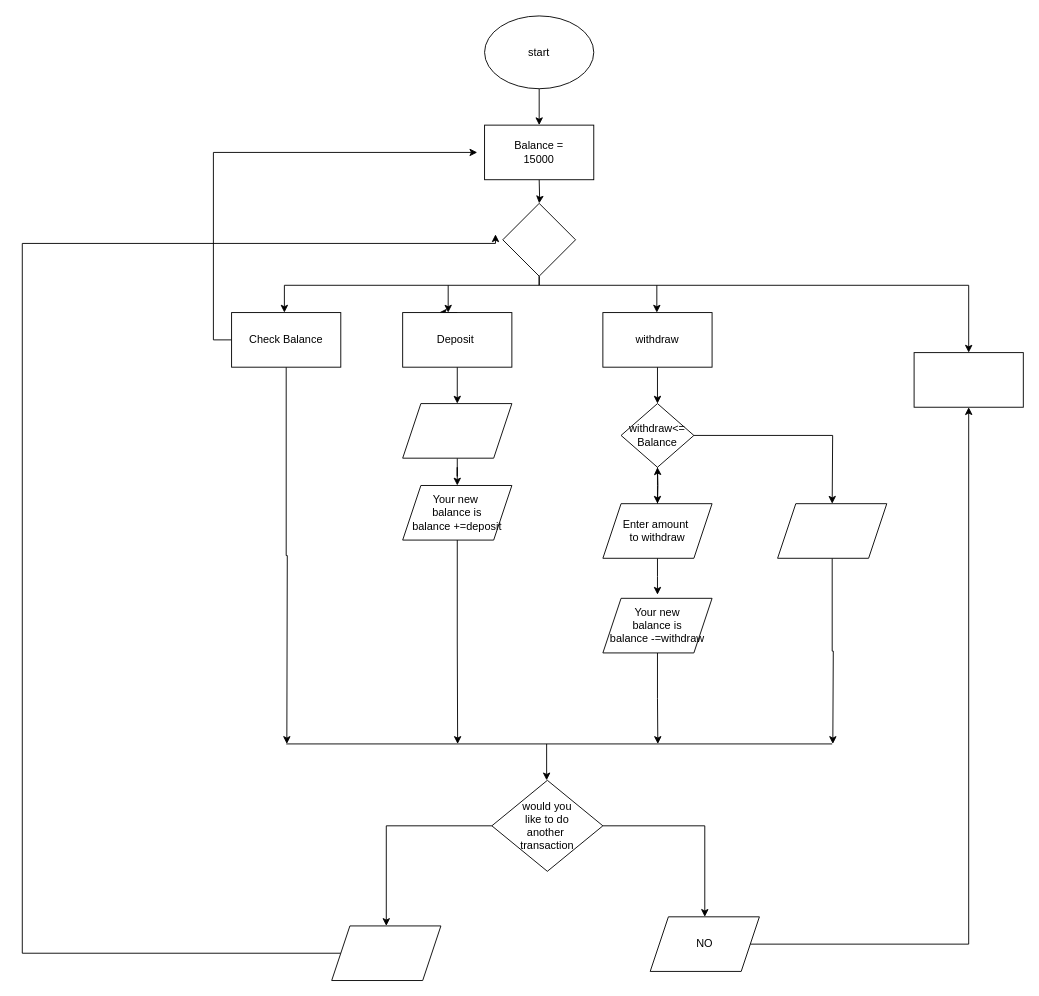
Image size: 1039x996. Some labels were removed from this diagram. Each missing label, with the centre of its shape:
Choose action: (539,239)
Enter amount to deposit: (457,430)
exit: (968,379)
insufficient balance: (832,530)
YES: (386,953)
